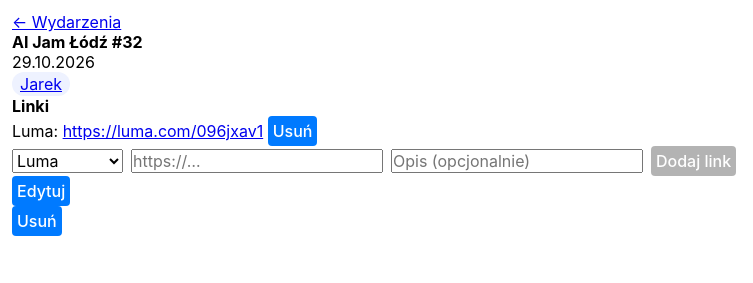
Test: ContactEventDetail links › adds a link and removes one
Expected: the heading "AI Jam Łódź #32" is shown, [12,32,143,52]
Select "Prezentacja" in the dropdown named "Typ linku" at (68, 161), box [12,149,123,173]
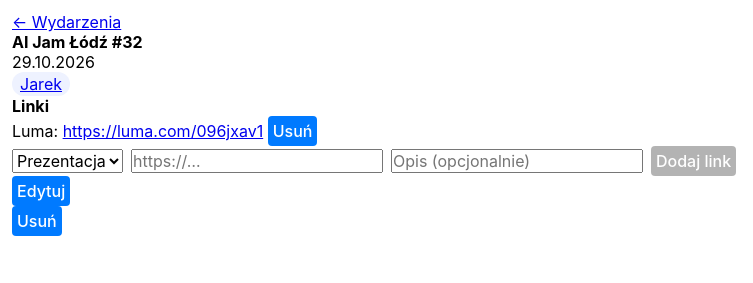
Type "https://x.pl/s" into the field named "Adres linku" at (257, 161), box [131,149,383,173]
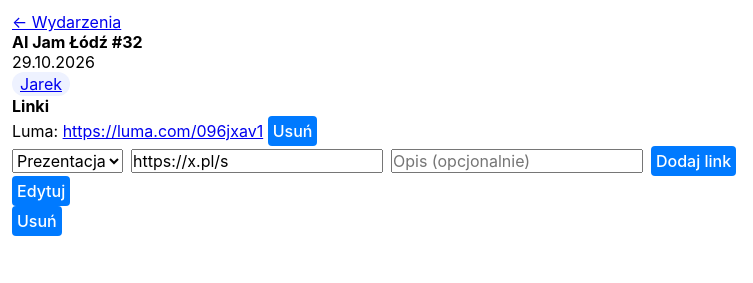
Type "Slajdy" into the field named "Opis linku" at (517, 161), box [391,149,643,173]
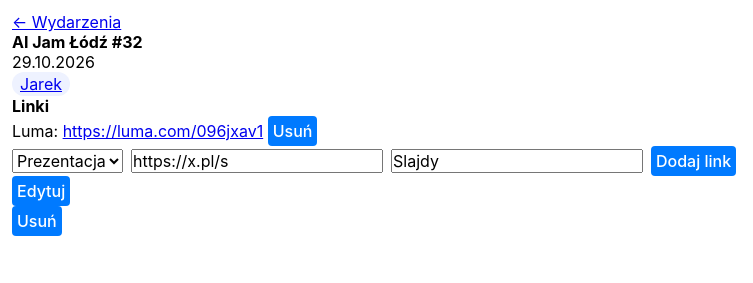
Click the button "Dodaj link" at (694, 161), box [651,146,736,176]
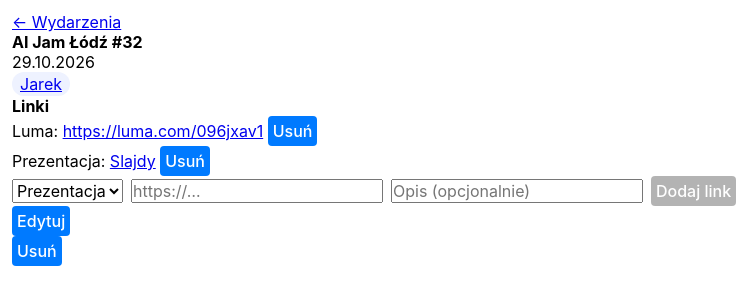
Now the link "Slajdy" is shown, box [110,151,156,171]
Click the button with aria-label "Usuń link https://luma.com/096jxav1" at (293, 131), box [268,116,317,146]
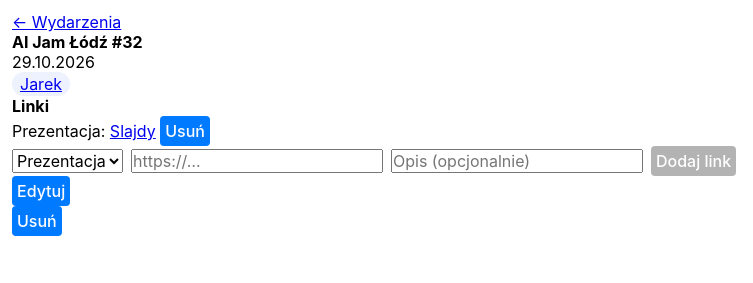
Now the link "https://luma.com/096jxav1" is gone
